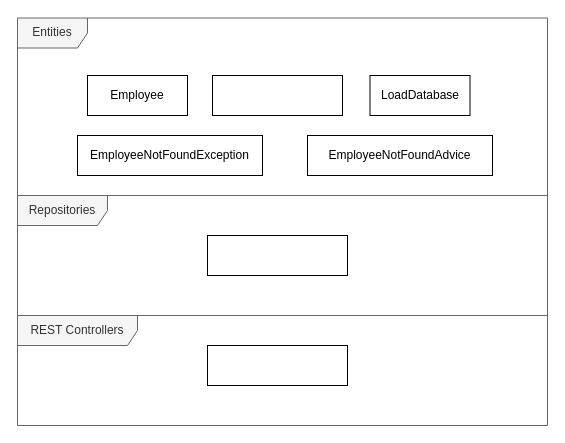
Some shapes in this 565 by 443 pixel diagram are drawn without their labels. Here are the shapes that lost their labels. From the top down, the centre of each, then its label:
point 277,95: PayRollApplication
point 277,255: EmployeeRepository
point 277,365: EmployeeController
